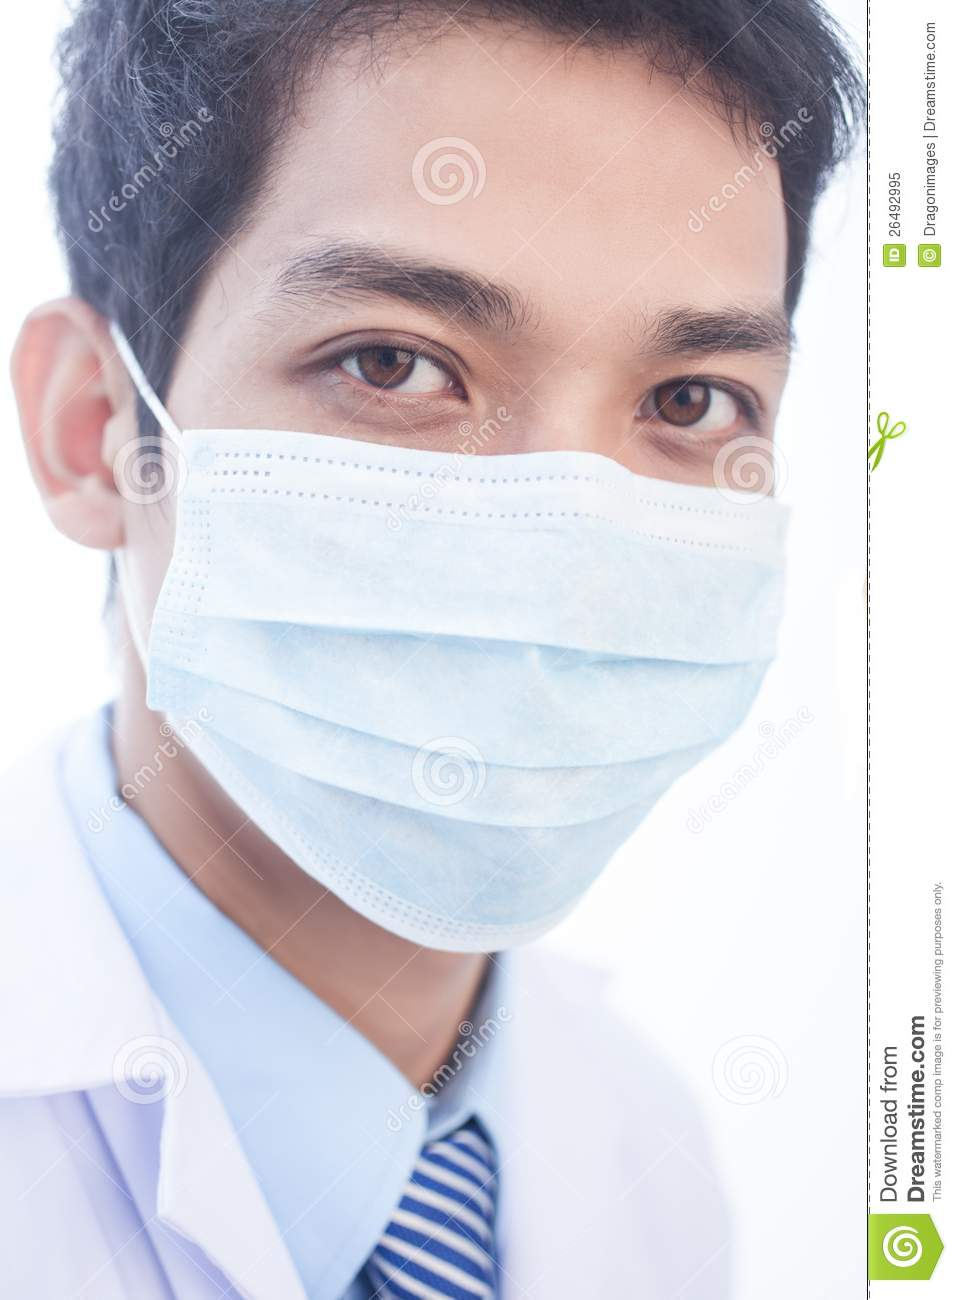mask: (150, 439, 780, 962)
